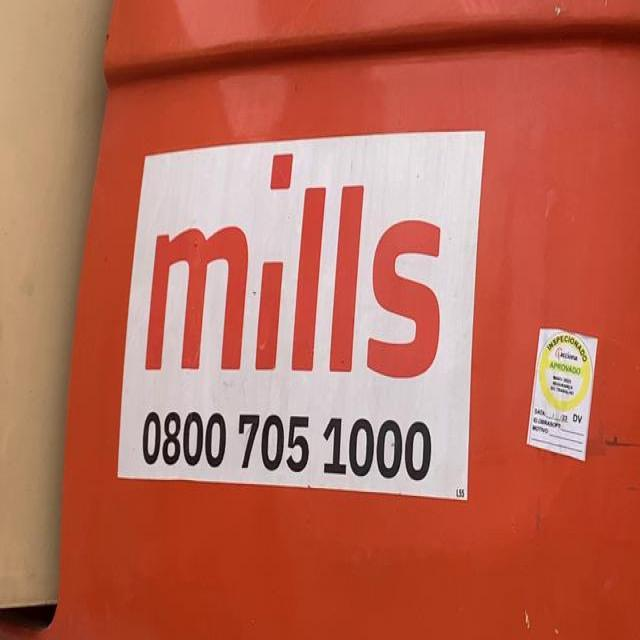Adesivos: (103, 112, 500, 516)
